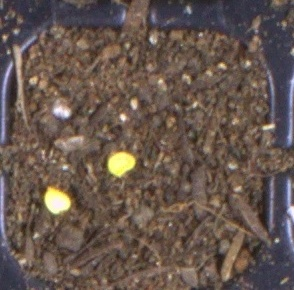chilli seed: (43, 185, 72, 214), (105, 151, 136, 178)
